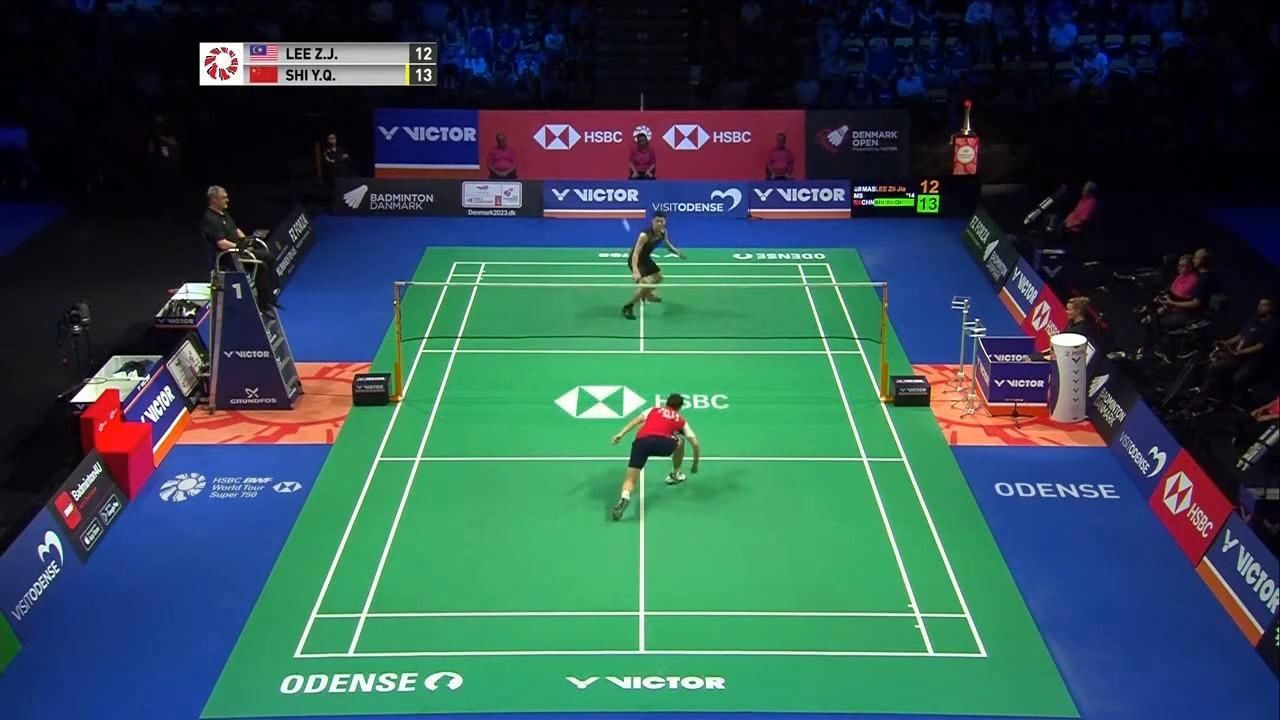shuttle: (622, 217, 631, 234)
